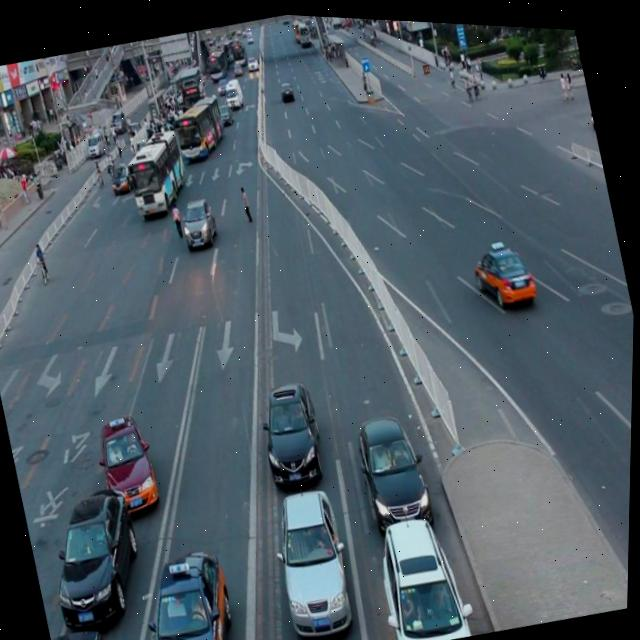car: (37, 475, 157, 633), (263, 473, 364, 639), (369, 497, 477, 640), (129, 533, 251, 640), (351, 400, 440, 532), (251, 370, 331, 487), (92, 405, 167, 515), (469, 232, 539, 308), (176, 190, 222, 249), (51, 618, 122, 640)
